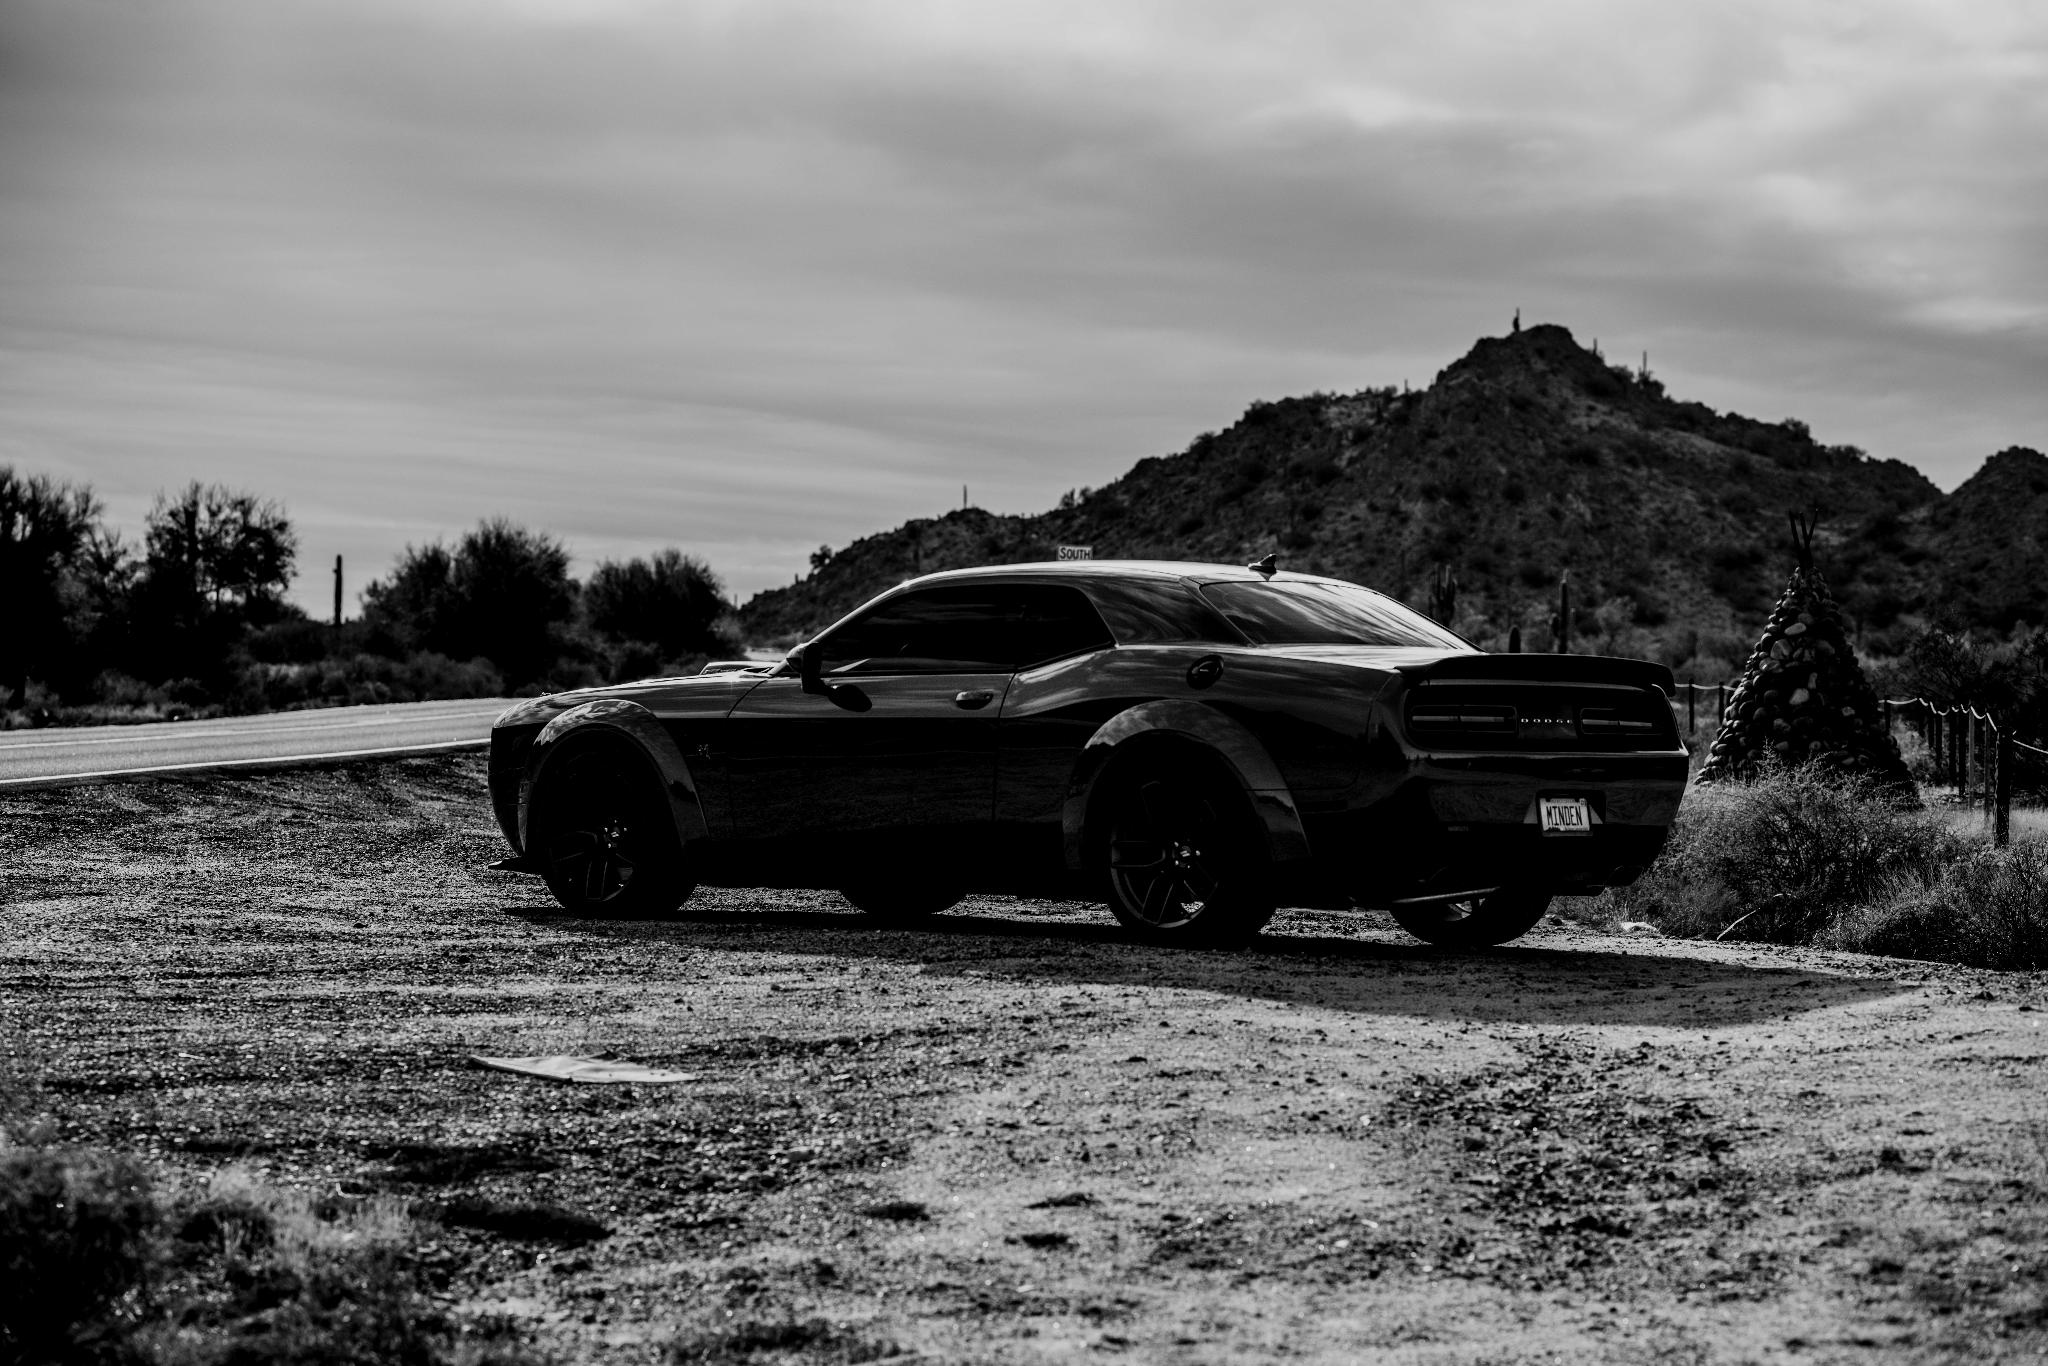dodge: (1512, 707, 1586, 739)
